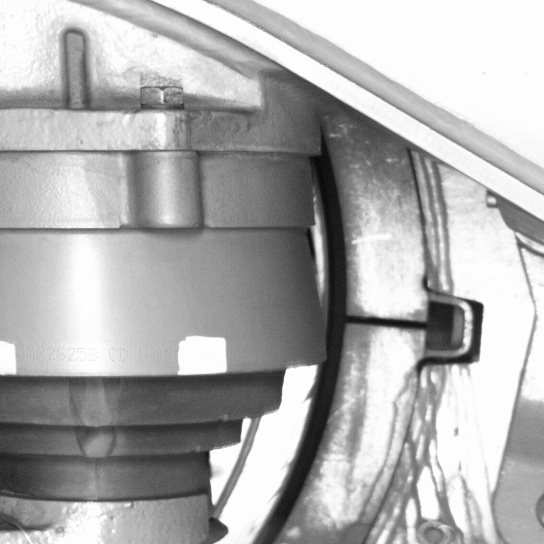KnifeSwitch: (255, 156, 407, 542)
